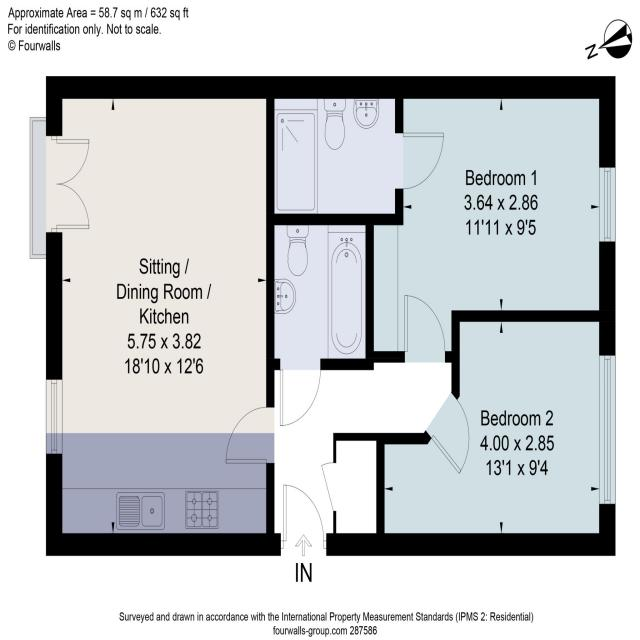DOOR: (424, 388, 473, 479), (222, 402, 276, 468), (276, 359, 325, 430), (281, 482, 327, 556), (402, 291, 448, 363), (395, 129, 446, 193)
DOUBLE DOOR: (46, 131, 93, 236)
ROOM: (46, 77, 275, 556), (369, 76, 616, 363), (377, 311, 615, 557)
WINDOW: (596, 351, 620, 509), (44, 373, 67, 460), (598, 163, 618, 245)
